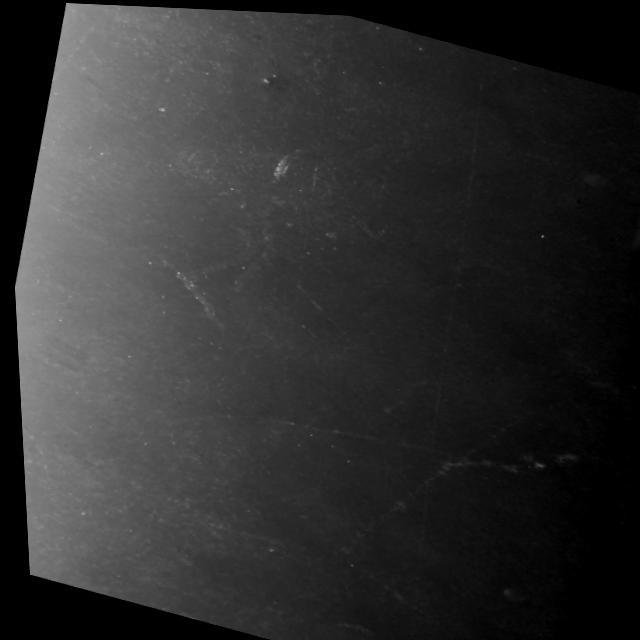beta: (319, 335, 575, 607), (176, 375, 455, 488), (316, 552, 569, 640), (432, 411, 588, 499), (278, 273, 360, 340), (46, 9, 101, 94), (160, 603, 244, 632), (313, 606, 375, 640), (490, 620, 568, 640)
